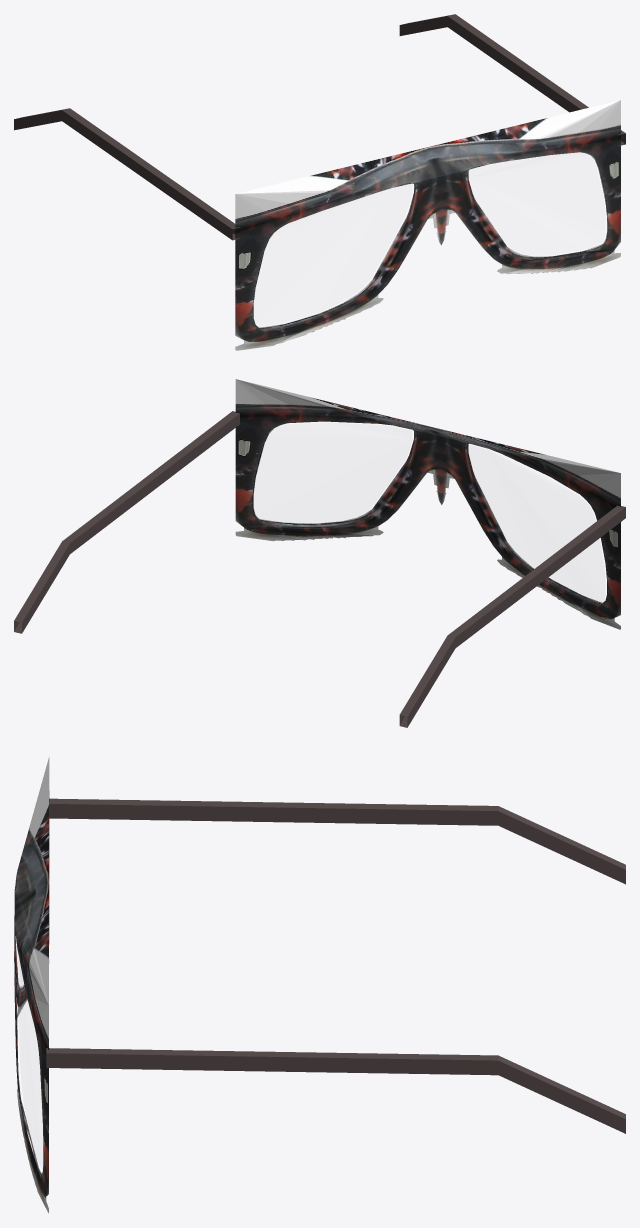
The model's file is nyc4u-empire-state_red-demi.glb.
The picture shows the model from 3 angles, top to bottom: view 1: azimuth 30°, elevation 25°; view 2: azimuth 150°, elevation 25°; view 3: azimuth 270°, elevation 25°; orthographic projection. The views are drawn at different scales.
Visible parts, largest first — view 1: frame_front, temple_viewer_left, temple_viewer_right; view 2: frame_front, temple_viewer_left, temple_viewer_right; view 3: temple_viewer_right, temple_viewer_left, frame_front.
Boxes of the visible parts, <box> form: frame_front: <box>235,100,620,350</box>; temple_viewer_left: <box>14,108,240,240</box>; temple_viewer_right: <box>399,14,625,146</box>; frame_front: <box>235,379,620,629</box>; temple_viewer_left: <box>399,505,625,727</box>; temple_viewer_right: <box>14,411,239,633</box>; temple_viewer_right: <box>46,1048,625,1133</box>; temple_viewer_left: <box>49,798,625,884</box>; frame_front: <box>14,757,49,1213</box>.
Size of the model in its own units: 0.1486 by 0.0567 by 0.151.
3 materials, 2 textured.
